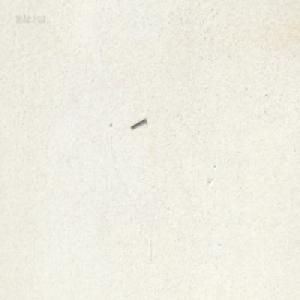Bolt: (129, 116, 145, 129)
